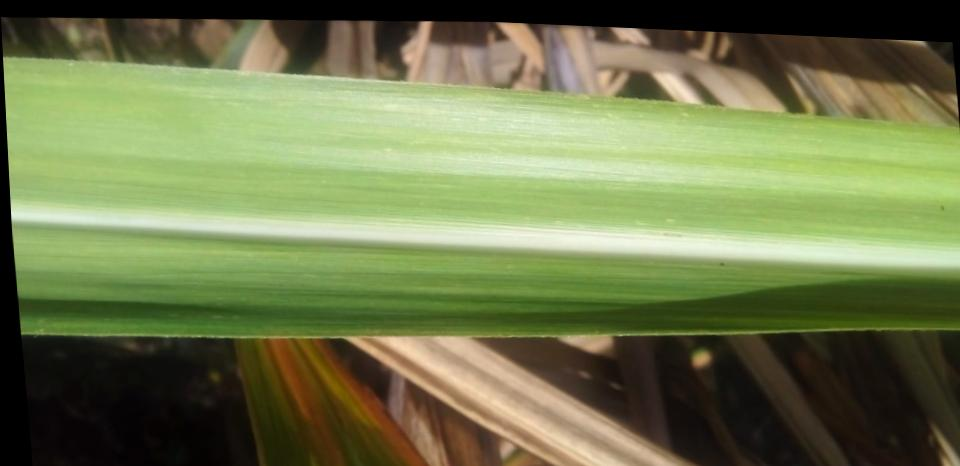Healthy: (3, 58, 960, 337)
